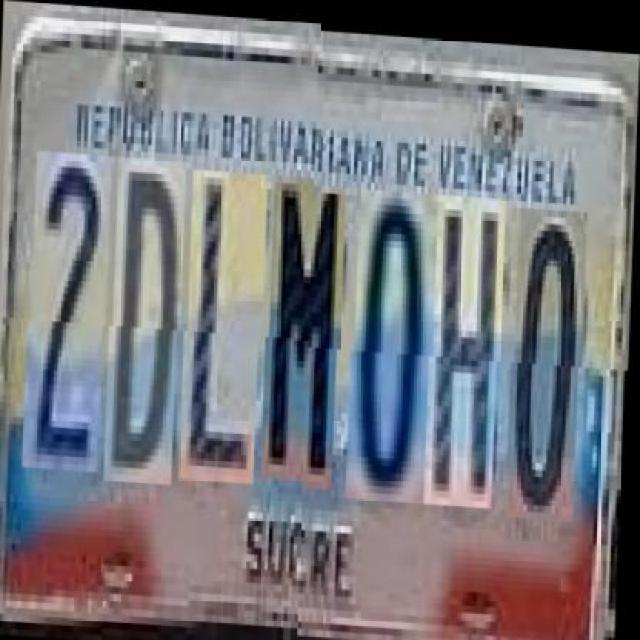2: (29, 157, 113, 478)
d: (110, 162, 188, 489)
h: (430, 188, 508, 502)
l: (185, 174, 270, 488)
m: (268, 178, 348, 485)
o: (352, 183, 440, 497), (512, 199, 590, 513)
